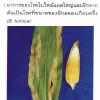Corn leaf blight: (29, 26, 64, 99)
